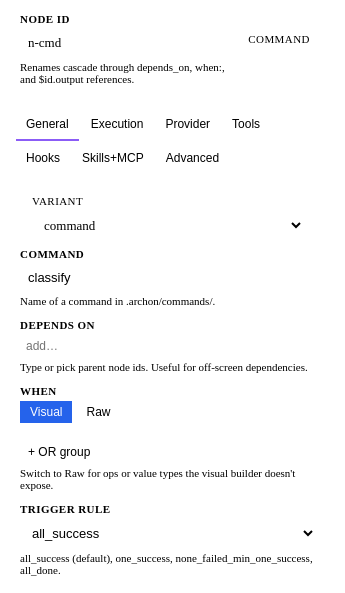
Test: NodeInspector › switches tab content on click
This screenshot has width=345, height=593.
Click the tab "Advanced" at (192, 159), box x1=156 y1=143 x2=229 y2=175
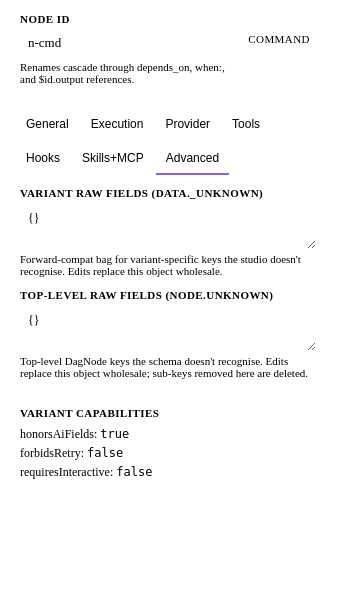
Now the panel with test id "tab-panel-advanced" is shown, box x1=8 y1=175 x2=328 y2=492
